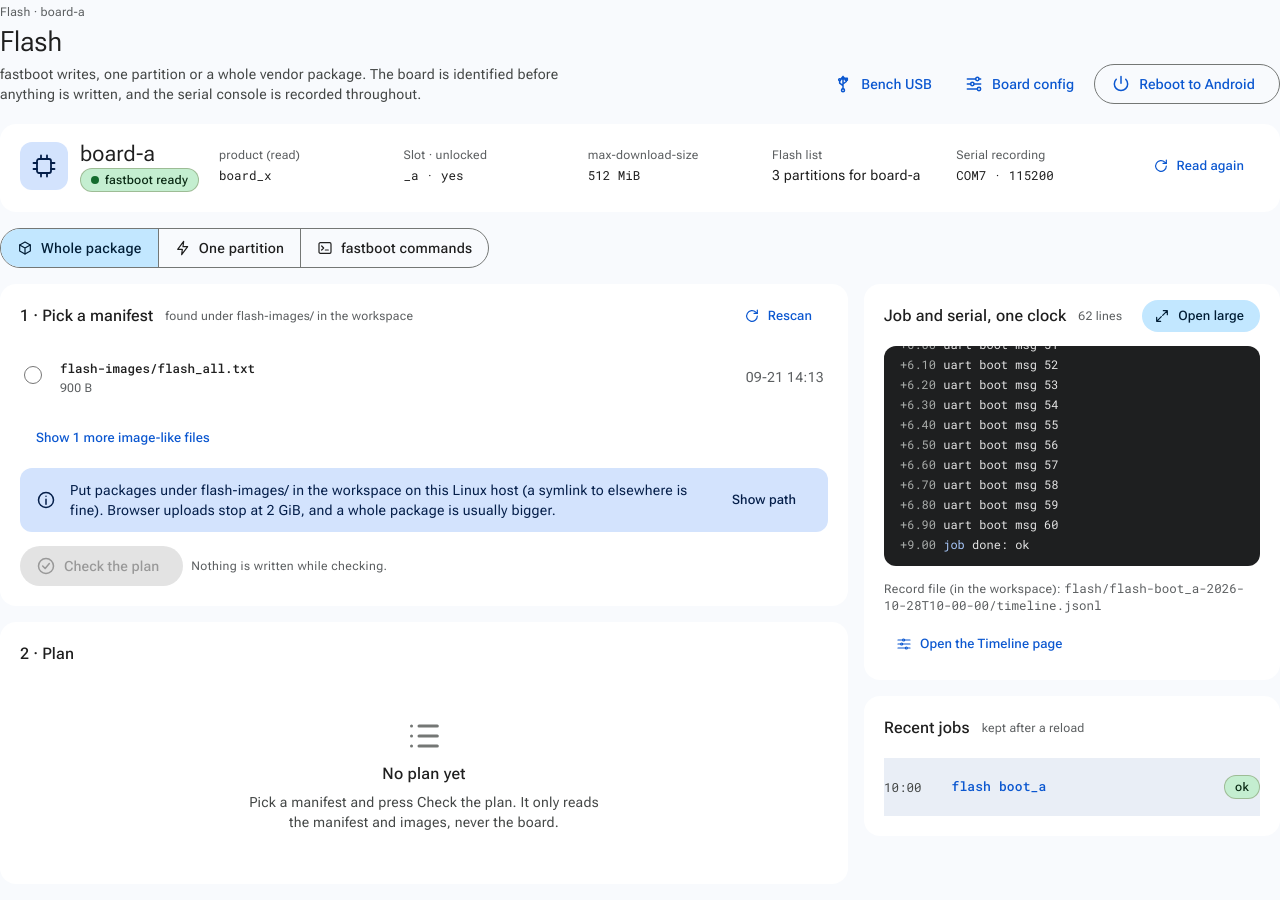
Test: Flash page: what the v2 tab had › shows every line of the recorded job and serial, not the last 40, and opens them large
The width and height of the screenshot is (1280, 900).
(page scrolled)
Expected: the element named "job and serial output" shows "boot msg 60", [979, 516, 1058, 532]
Expected: the text "62 lines" is shown, [1078, 308, 1122, 324]
Click the button "Open large" at (1201, 316), box [1142, 300, 1260, 332]
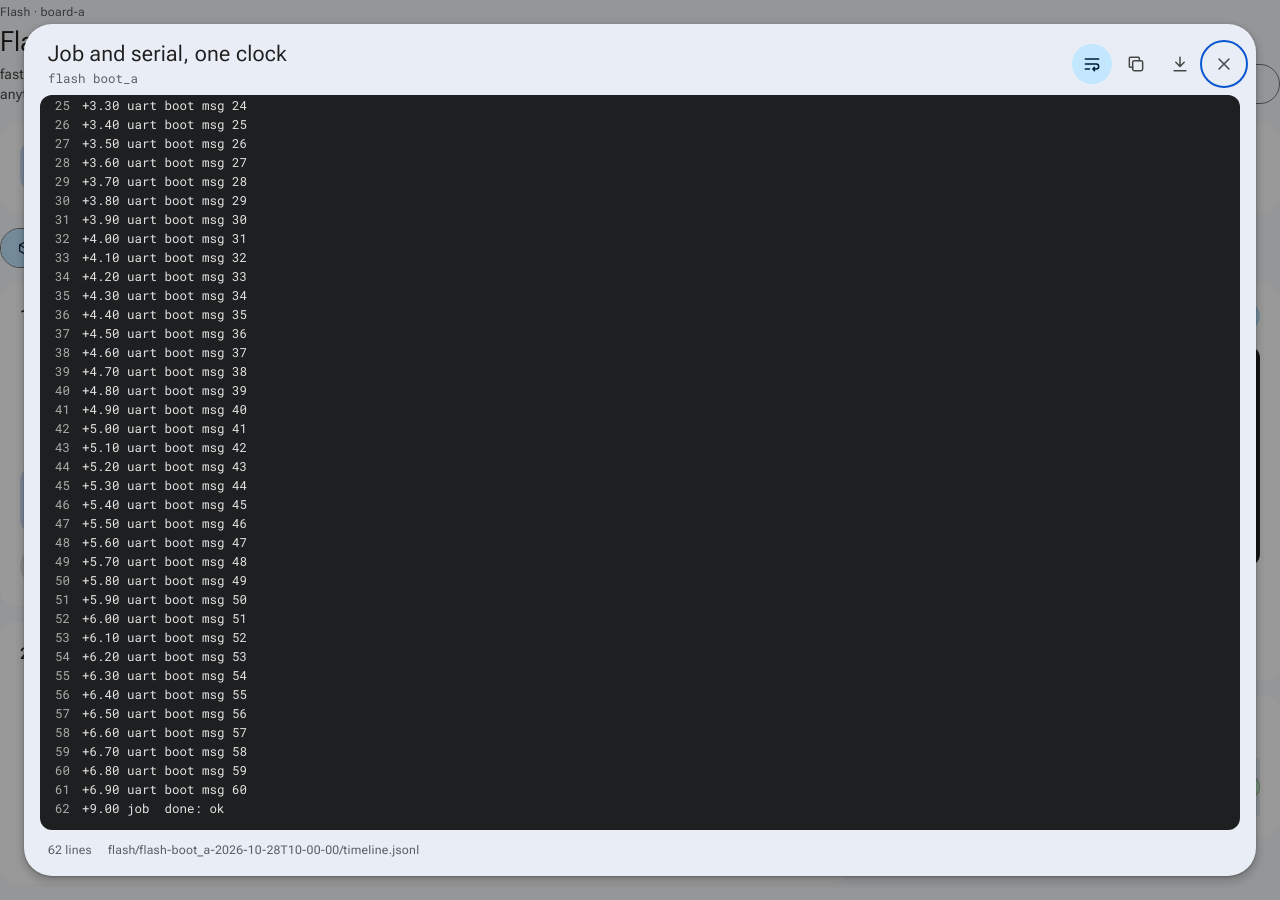
Expected: the text "62 lines" is shown, [48, 840, 92, 860]
Click the button named "Close" at (1224, 64), box [1204, 44, 1244, 84]
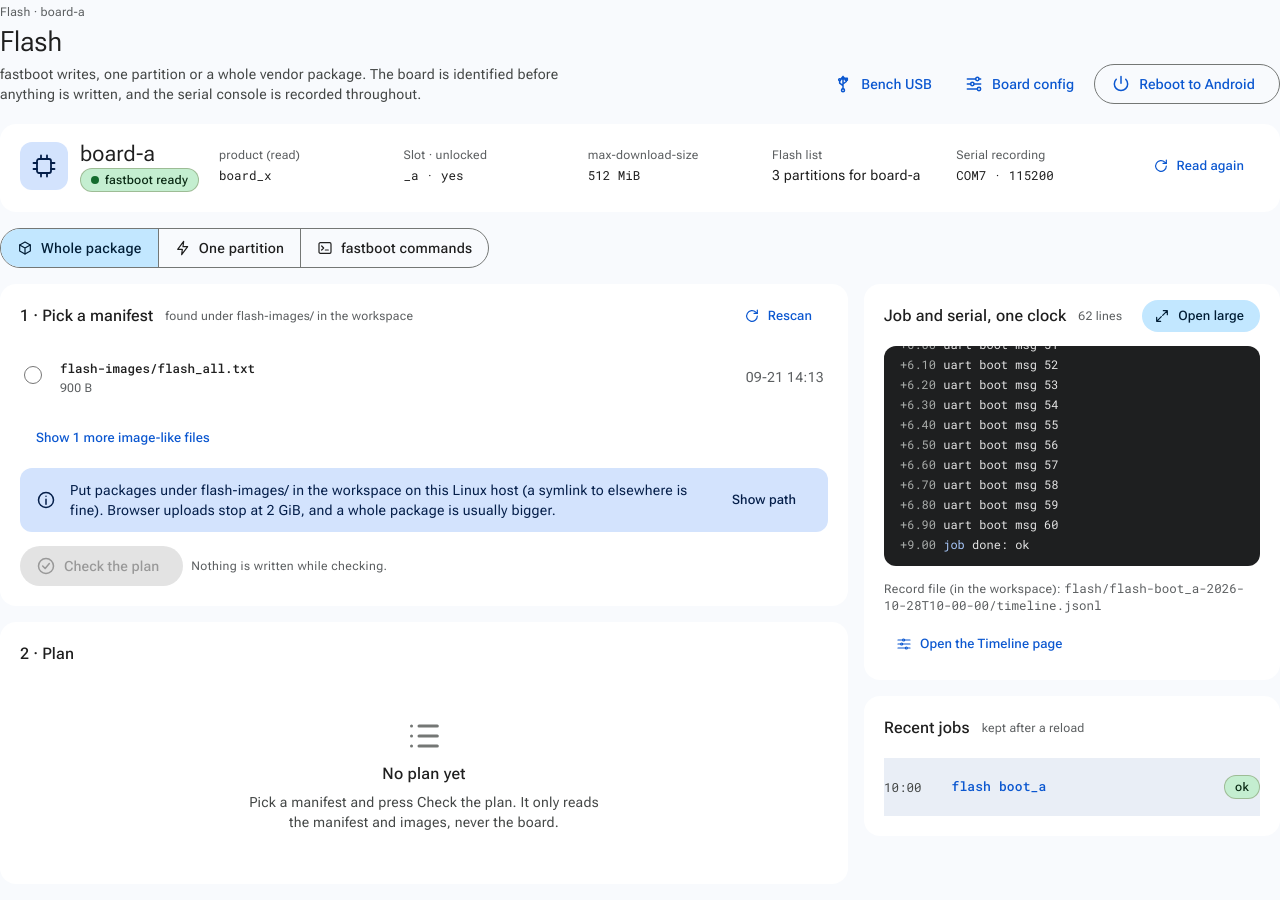
Expected: the dialog is gone
